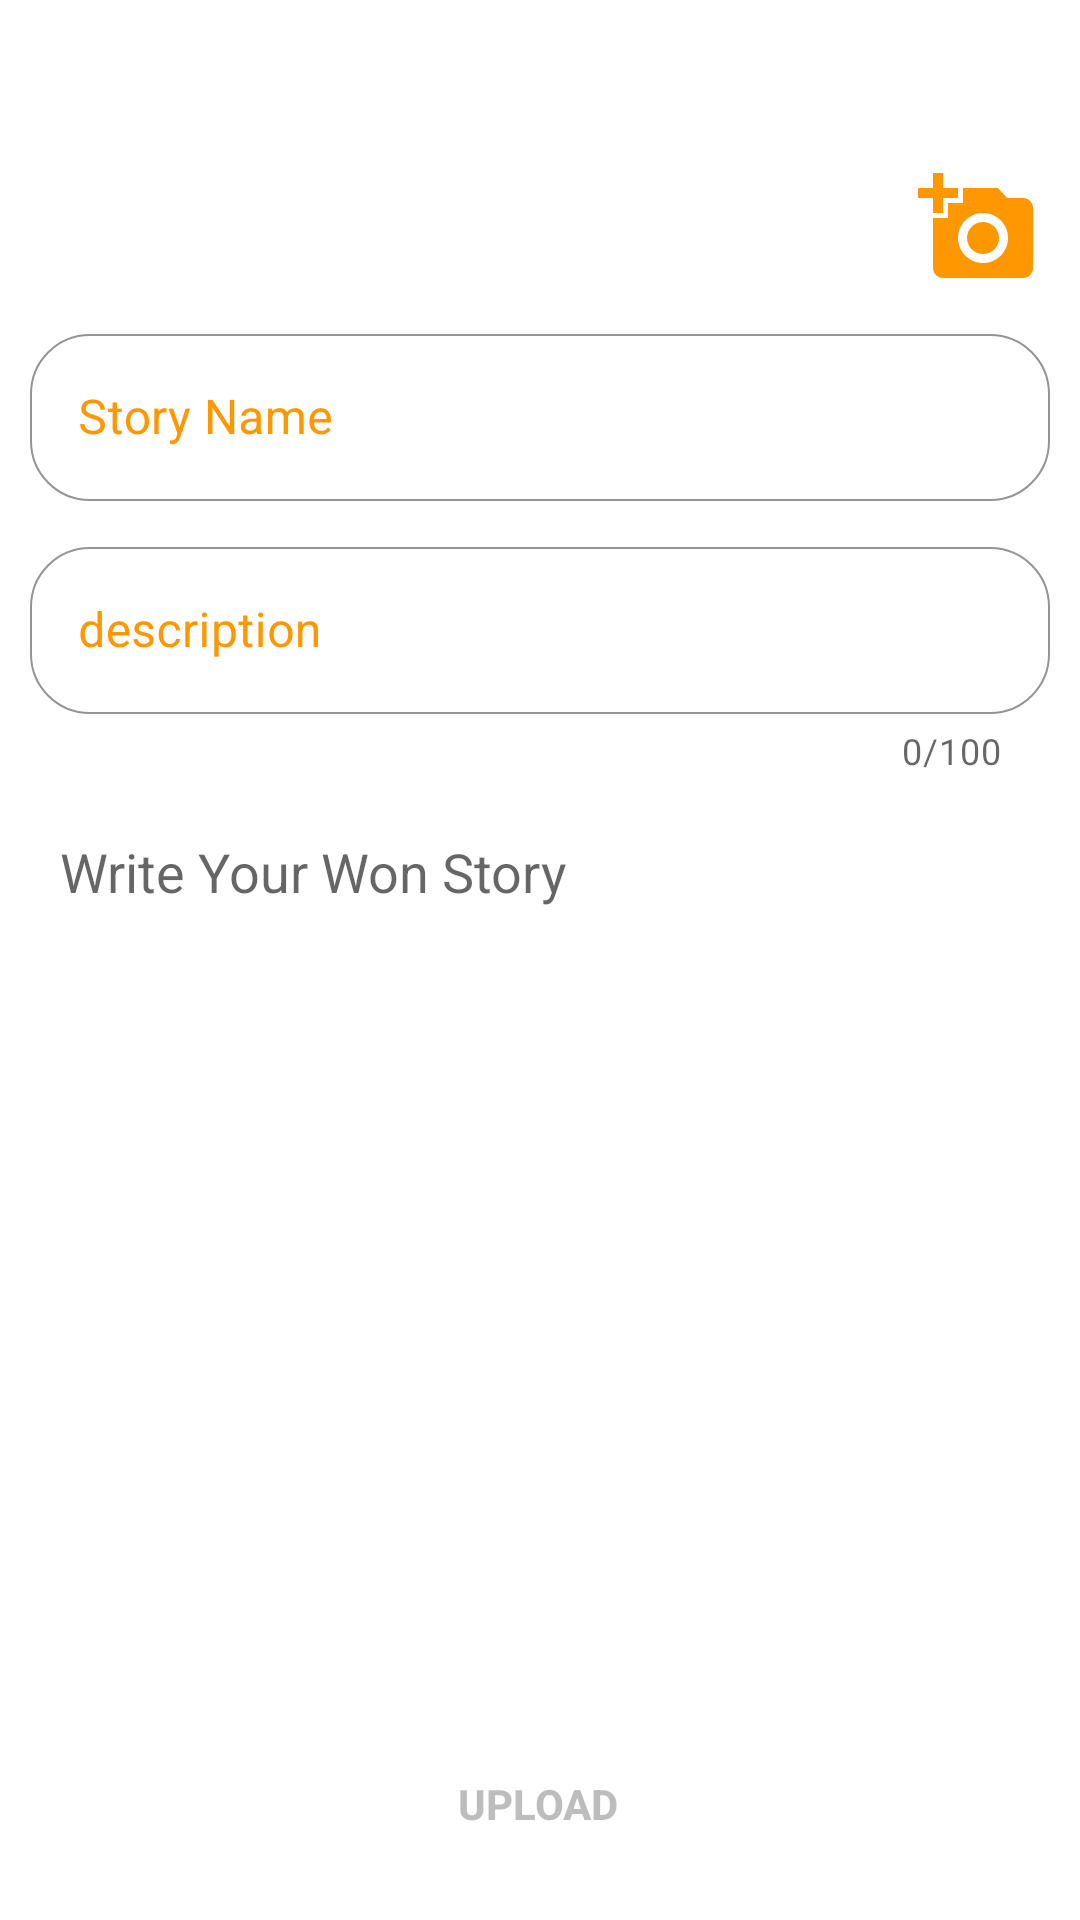

Where to tap for icons on this 1080*1920 app screen, as (x=x, y=y):
add photo: (x=975, y=225)
